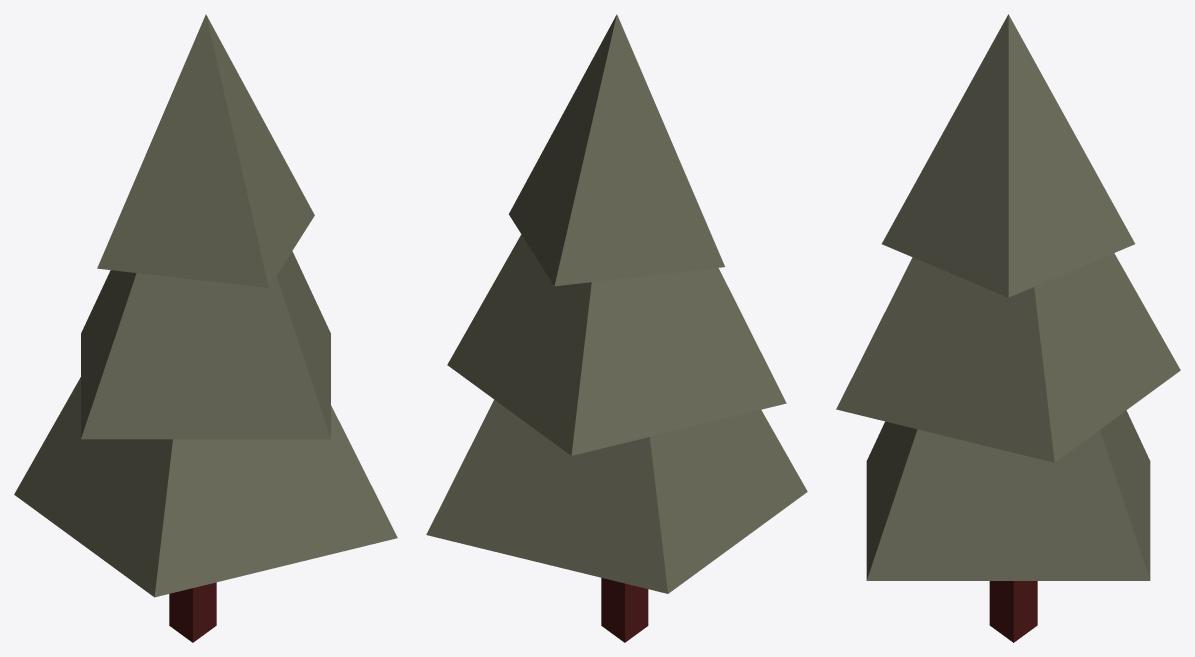
File: Tree_B1.fbx
The picture shows the model from 3 angles, left to right: view 1: azimuth 30°, elevation 25°; view 2: azimuth 150°, elevation 25°; view 3: azimuth 270°, elevation 25°; orthographic projection.
Visible parts, largest first — view 1: pCylinder3; view 2: pCylinder3; view 3: pCylinder3.
Part boxes in pixels (bbox=[...]): pCylinder3: bbox=[14, 14, 397, 642]; pCylinder3: bbox=[426, 14, 807, 642]; pCylinder3: bbox=[836, 14, 1180, 642].
Size of the model in its own units: 4.82 by 9.61 by 4.82.
